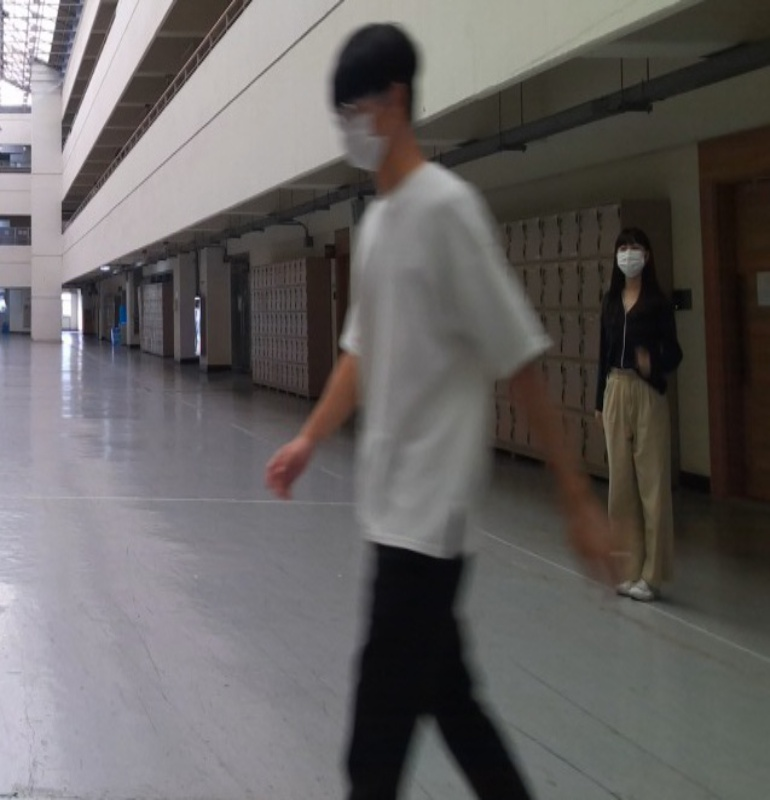person: (263, 23, 624, 800)
